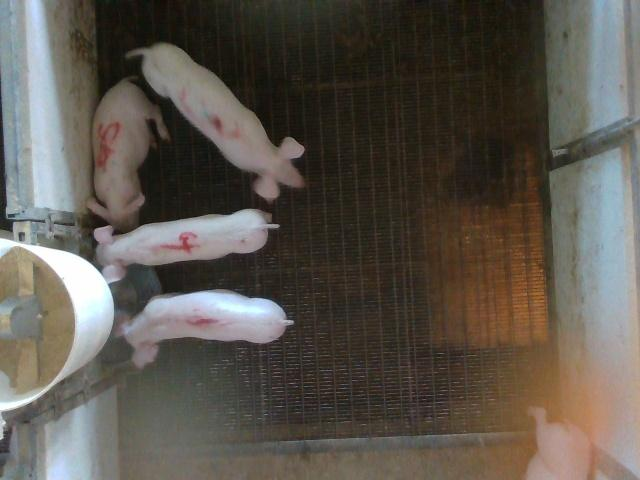pig-1: (112, 291, 291, 368)
pig-3: (127, 42, 305, 202)
pig-4: (94, 209, 279, 282)
pig-5: (86, 78, 170, 232)
